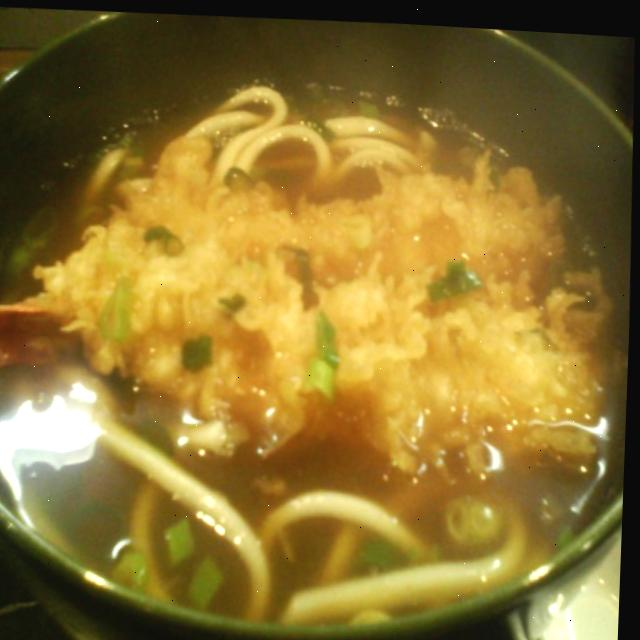面条主食: (0, 32, 633, 640)
